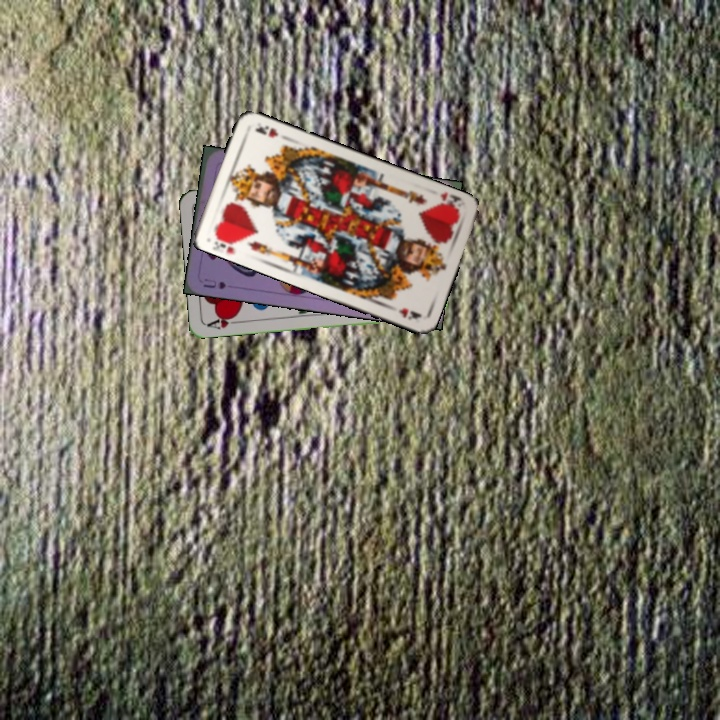HA: (204, 311, 244, 332)
HK: (433, 188, 464, 215), (209, 229, 244, 251)
SU: (199, 274, 228, 292)
